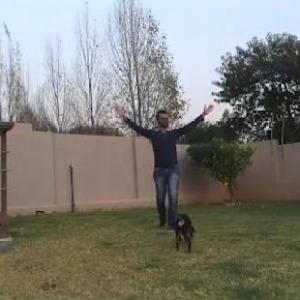takeoff: (101, 88, 224, 230)
